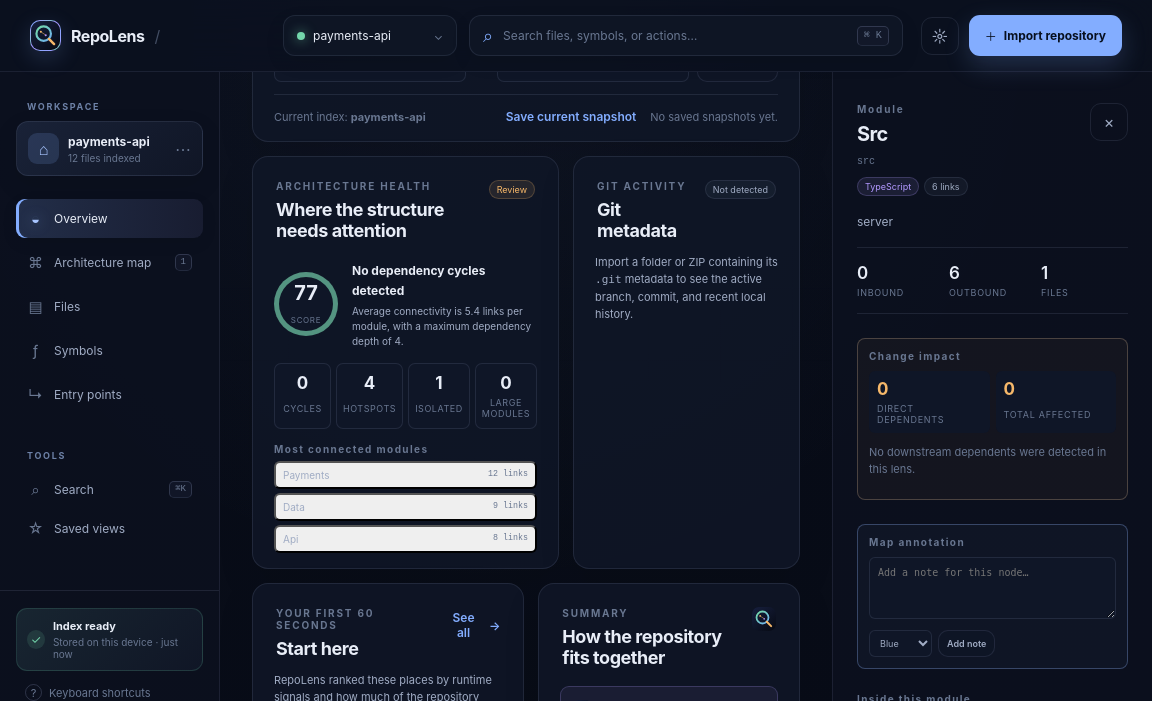
Test: RepoLens shell › opens the architecture map from a health dashboard hotspot
(page scrolled)
Click the button "4 hotspots" at coordinates (370, 396), box [336,363,403,429]
(page scrolled)
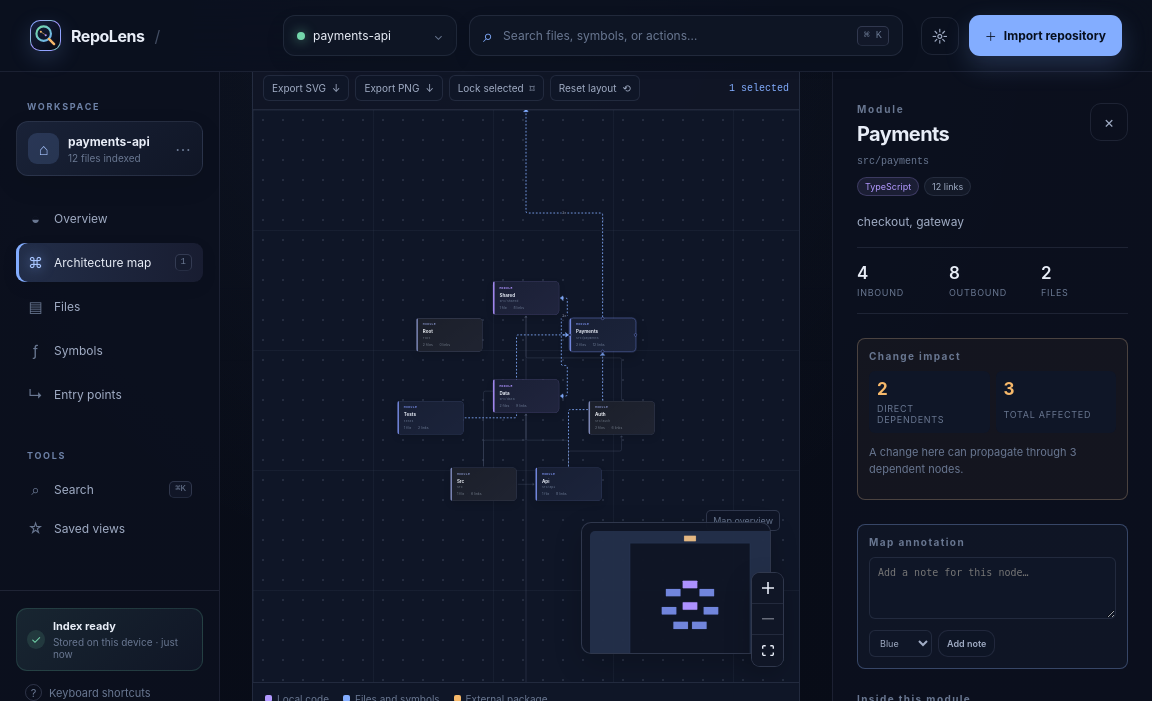
Now the element named "module interactive dependency map" is shown, box [253,110,799,682]
